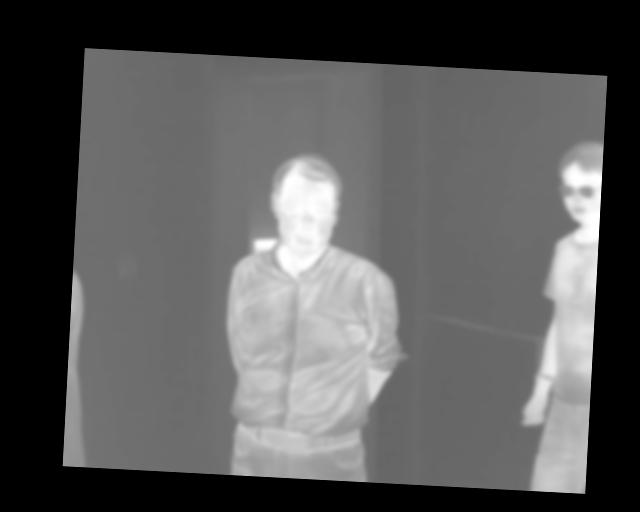face: (266, 150, 346, 262), (557, 138, 603, 224)
